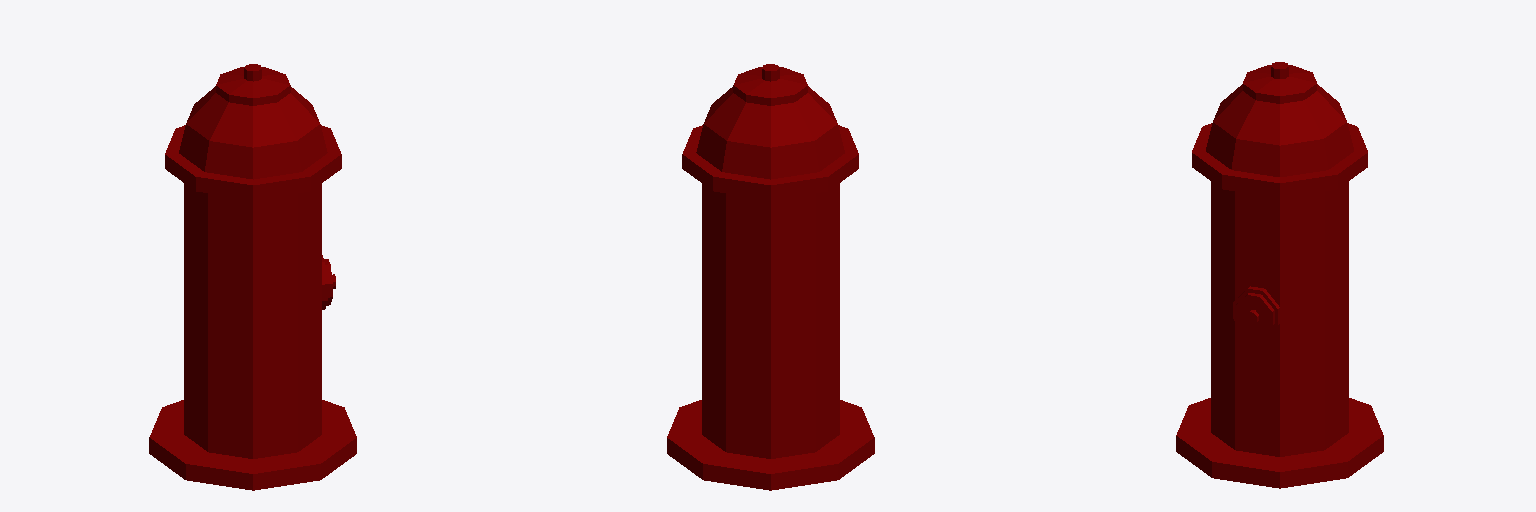
The model's file is FireHydrent.obj.
3 renders of one model, left to right at view 1: azimuth 30°, elevation 25°; view 2: azimuth 150°, elevation 25°; view 3: azimuth 270°, elevation 25°, orthographic.
Visible parts, largest first — view 1: Cylinder001; view 2: Cylinder001; view 3: Cylinder001.
Part boxes in pixels (x1,y1,x2,y2): Cylinder001: (149, 64, 356, 490); Cylinder001: (667, 64, 874, 490); Cylinder001: (1176, 62, 1383, 488).
Size of the model in its own units: 2.43 by 4.97 by 2.47.